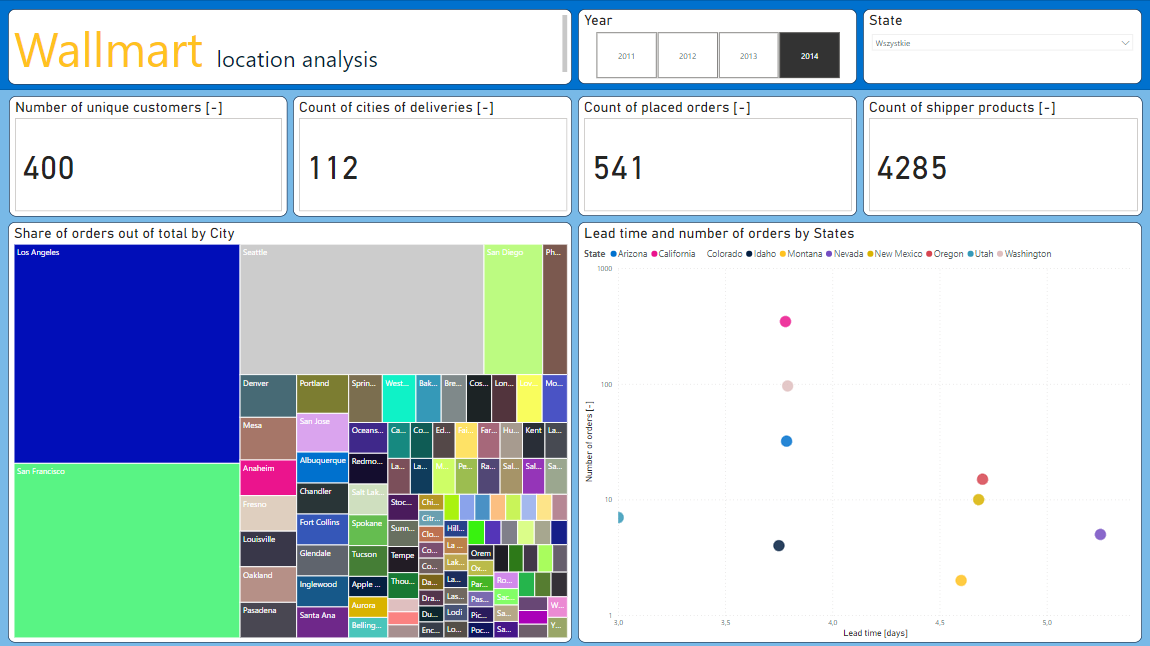

Layout of this report page (visuals, bound fields, positions):
{"tool":"powerbi","page":{"name":"Locations analysis","canvas":[1920,1080],"ordinal":1},"visuals":[{"type":"shape","box":[0,0,1920,150],"z":0},{"type":"slicer","title":"Year","fields":{"Values":["CalendarTable.Year"]},"box":[965,15,465,125],"z":1000},{"type":"slicer","title":"State","fields":{"Values":["Walmart.State"]},"box":[1440,15,465,125],"z":2000},{"type":"cardVisual","title":"Count of cities of deliveries [-]","fields":{"Data":["Metrics.#of customers city"]},"box":[489.4,160.1,465.4,200.5],"z":3000},{"type":"cardVisual","title":"Count of placed orders [-]","fields":{"Data":["Count(Walmart.Order ID)"]},"box":[964.5,159.9,464.8,200.1],"z":4000},{"type":"cardVisual","title":"Count of shipper products [-]","fields":{"Data":["Sum(Walmart.Quantity)"]},"box":[1440,159.9,466.1,200.1],"z":5000},{"type":"cardVisual","title":"Number of unique customers [-]","fields":{"Data":["Count(Walmart.Customer Name)"]},"box":[16.5,160.1,463.9,200.5],"z":6000},{"type":"scatterChart","title":"Lead time and number of orders by States","fields":{"X":["Metrics.Lead time"],"Y":["Metrics.#of orders"],"Series":["Walmart.State"]},"box":[964.5,369.4,940.3,701.2],"z":7000},{"type":"treemap","title":"Share of orders out of total by City","fields":{"Values":["Metrics.#of orders"],"Details":["Walmart.City"]},"box":[14.8,369.4,940.3,701.2],"z":8000},{"type":"textbox","box":[15,15,939.8,125.7],"z":9000}]}

Visuals, with their boxes in screenshot pixels (x1, y1, x2, y2), scaled from the page's 1920x1080 canvas onto the 1150x646 screenshot:
shape: <region>0, 0, 1149, 90</region>
"Year" slicer: <region>578, 9, 857, 84</region>
"State" slicer: <region>862, 9, 1141, 84</region>
"Count of cities of deliveries [-]" cardVisual: <region>293, 96, 572, 216</region>
"Count of placed orders [-]" cardVisual: <region>578, 96, 856, 215</region>
"Count of shipper products [-]" cardVisual: <region>862, 96, 1142, 215</region>
"Number of unique customers [-]" cardVisual: <region>10, 96, 288, 216</region>
"Lead time and number of orders by States" scatterChart: <region>578, 221, 1141, 640</region>
"Share of orders out of total by City" treemap: <region>9, 221, 572, 640</region>
textbox: <region>9, 9, 572, 84</region>
